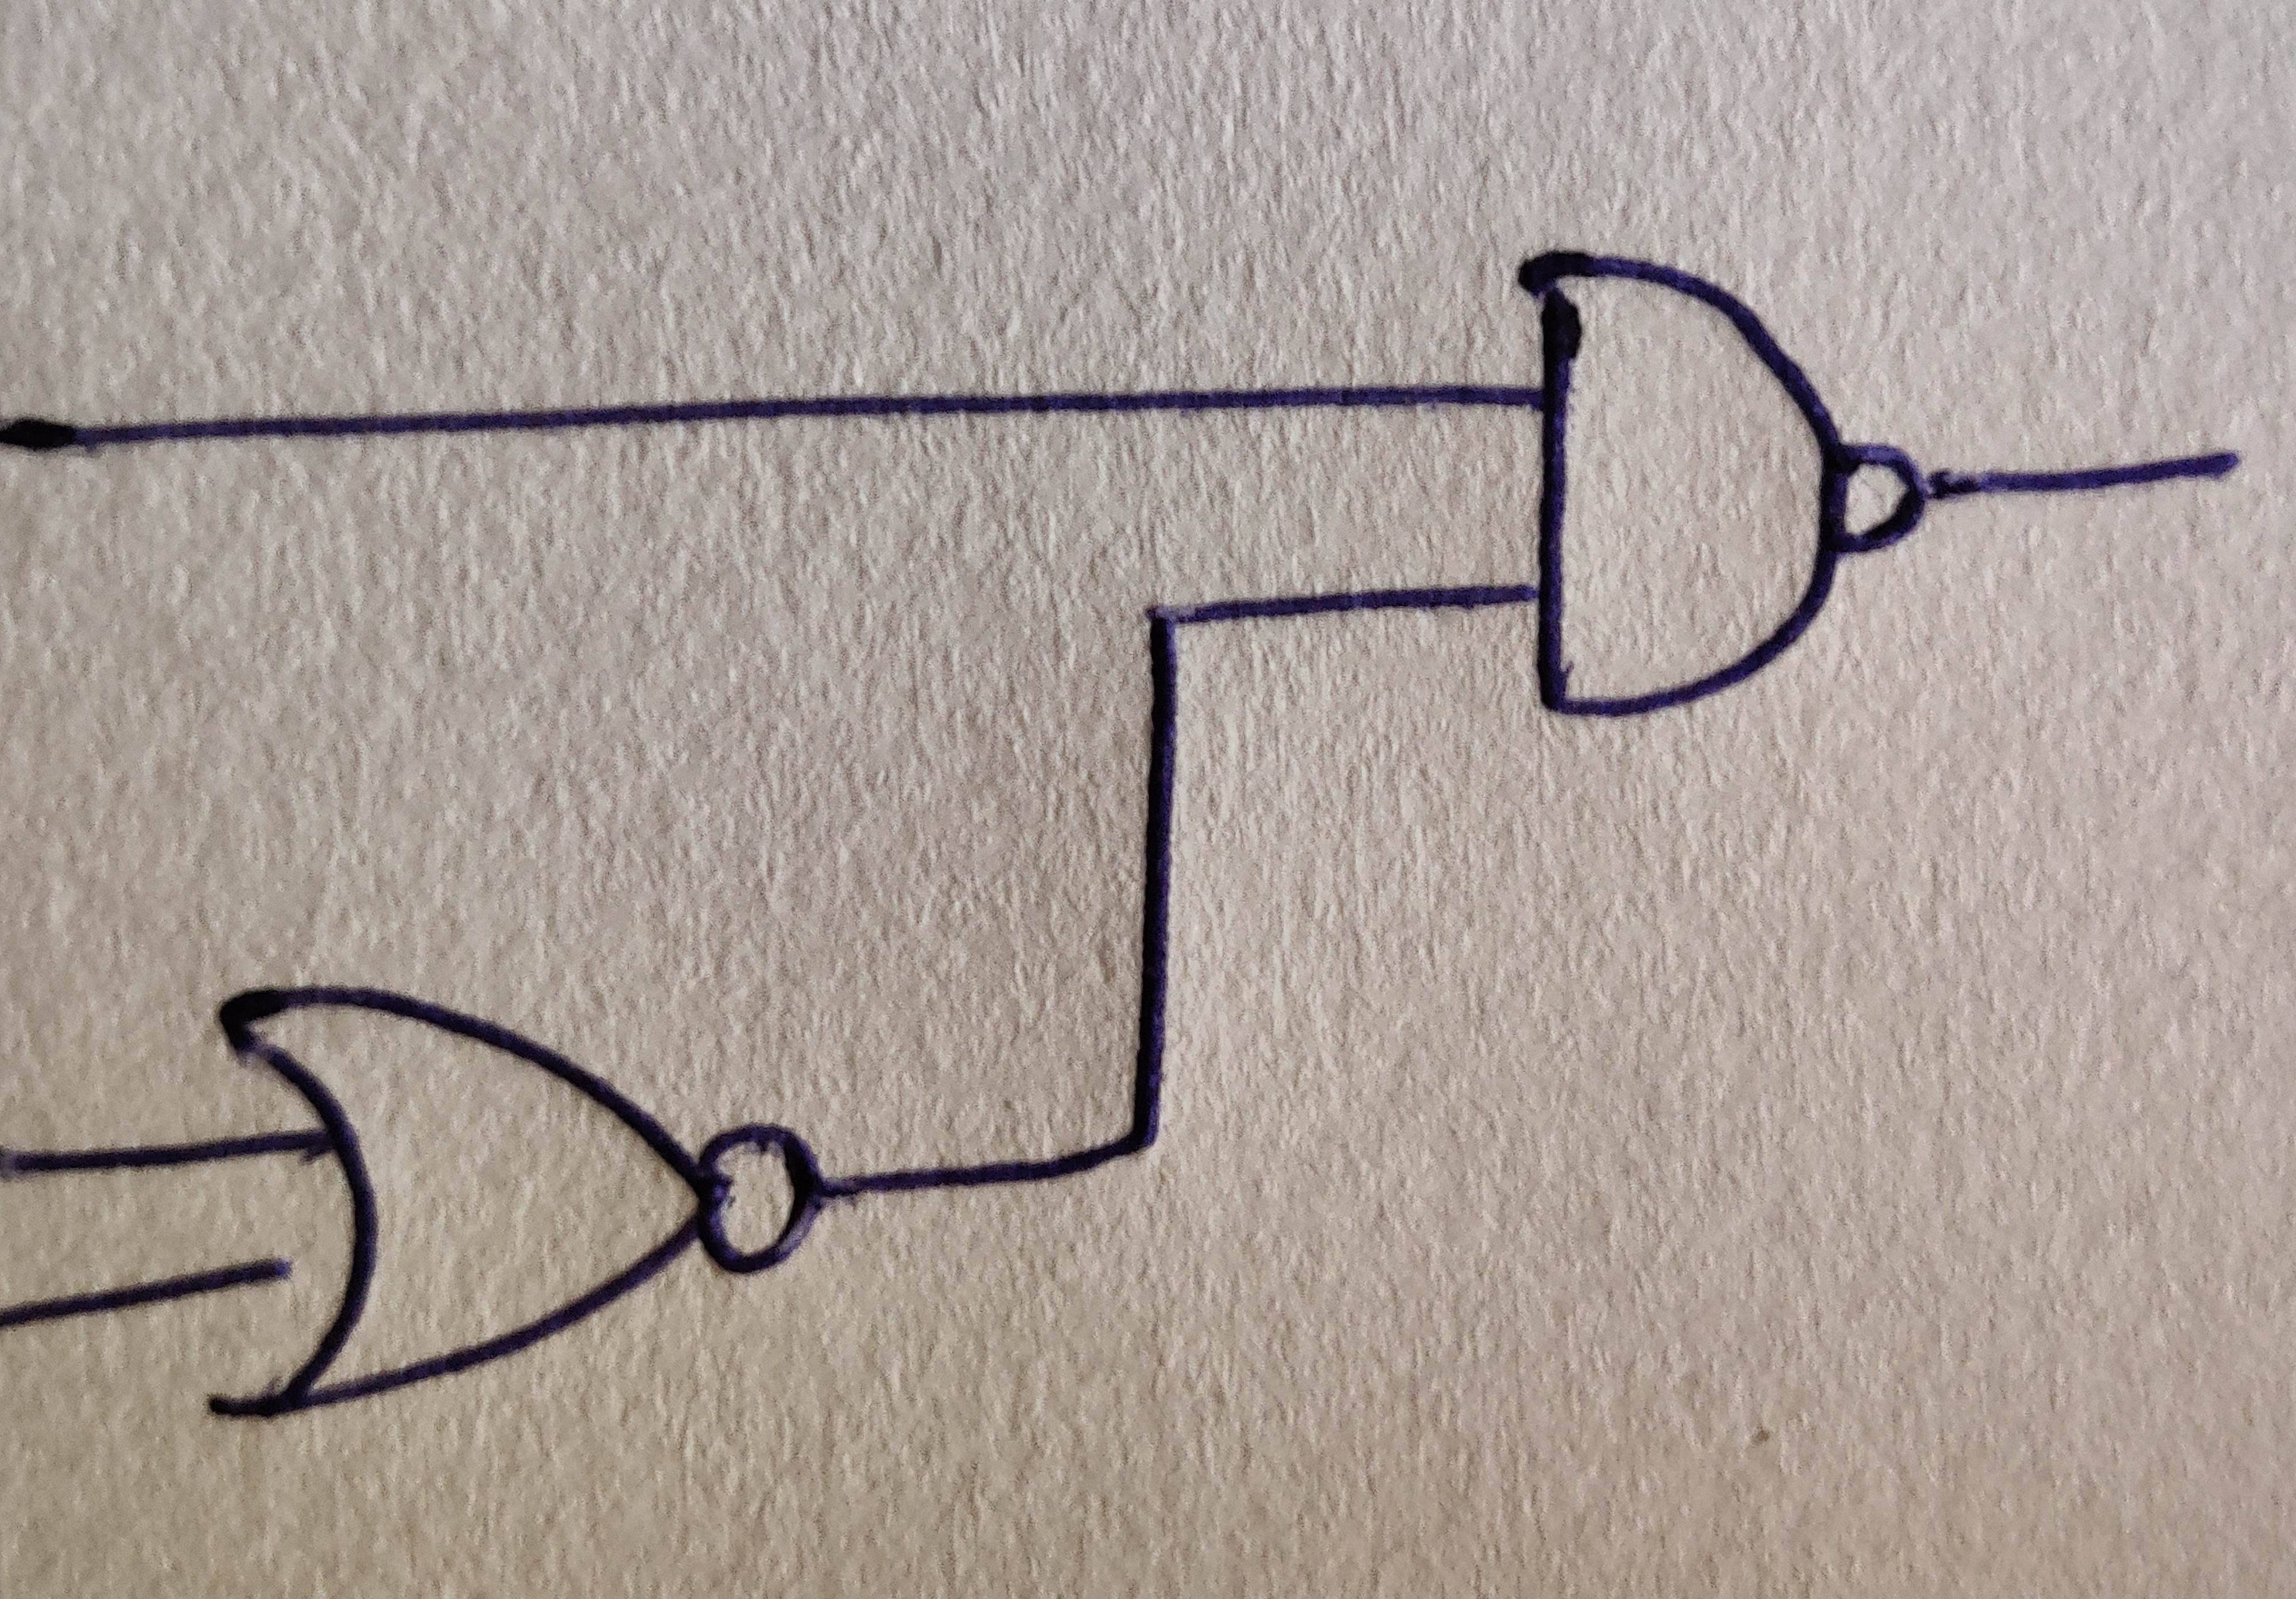and: (1525, 241, 1844, 717)
not: (694, 1128, 822, 1278), (1821, 445, 1923, 557)
or: (211, 988, 705, 1417)
